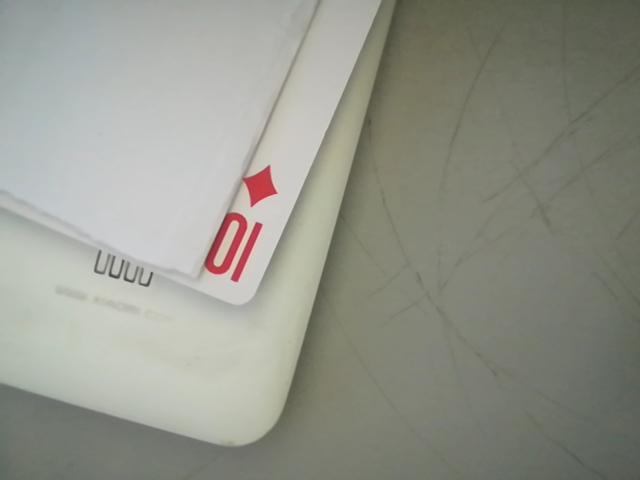fk 10: (192, 158, 296, 295)
